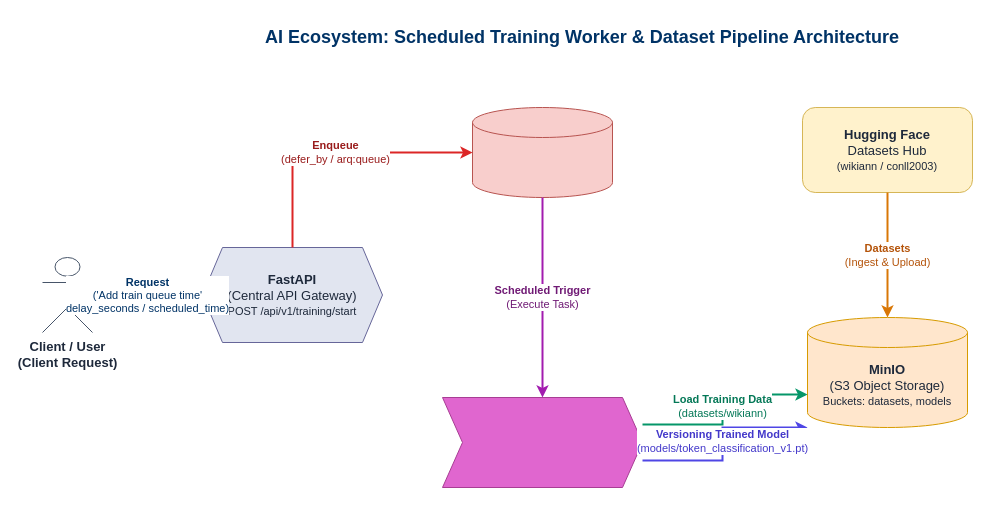
This 990x505 diagram has some shape labels left out. The shapes that lost their labels are listed below. From the top down, each one's centre as x and y in pixels, then its label:
At [542,152]: "Redis (Queue Broker) Queue: arq:queue".
At [542,442]: "Trainer Worker (PyTorch / HuggingFace) Token Classification Engine".
